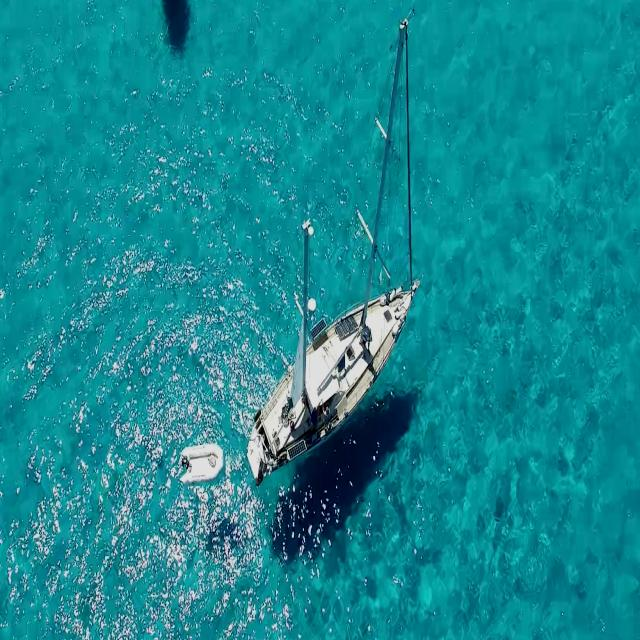ship: (245, 255, 428, 482)
